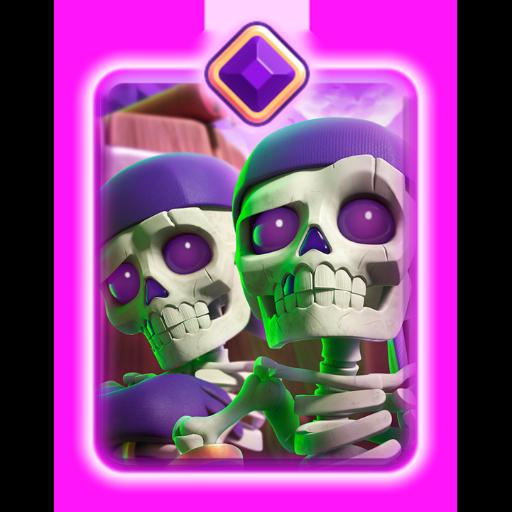wall-breakers-evo: (104, 80, 412, 466)
